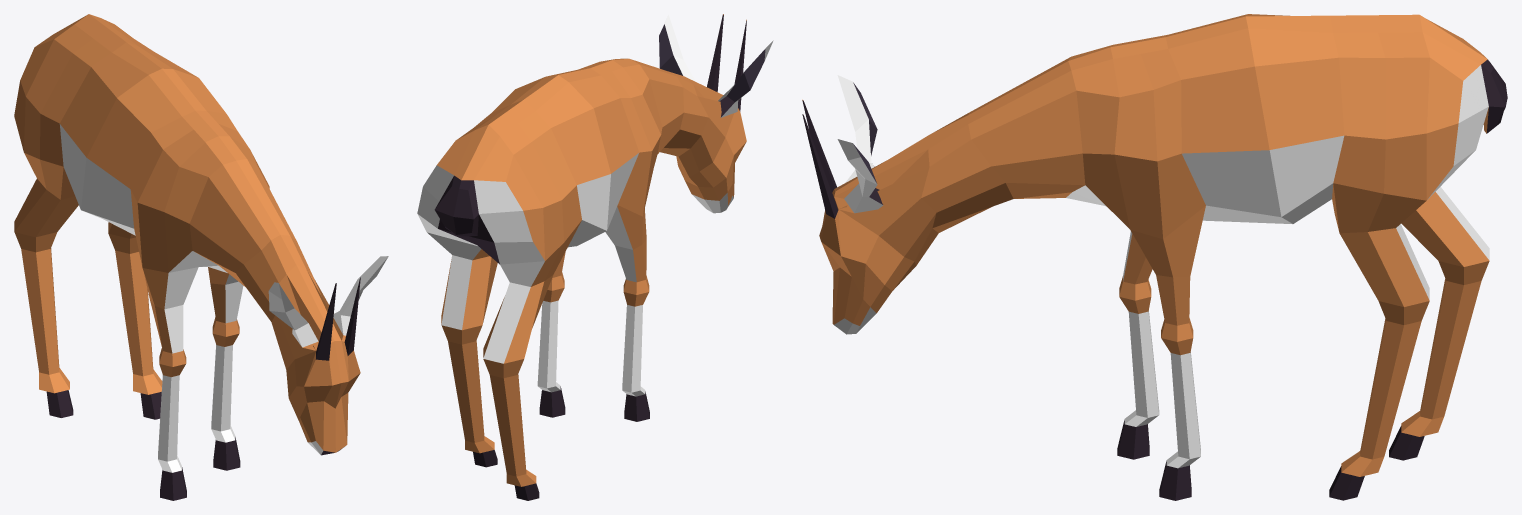
The model's file is Antilope2.fbx.
3 views of the same model, side by side, from view 1: azimuth 30°, elevation 25°; view 2: azimuth 150°, elevation 25°; view 3: azimuth 270°, elevation 25° (orthographic). The views are drawn at different scales.
Visible parts, largest first — view 1: Antilope.003; view 2: Antilope.003; view 3: Antilope.003.
Part boxes in pixels (left/top/right/bottom): Antilope.003: left=14, top=14, right=388, bottom=500; Antilope.003: left=417, top=14, right=773, bottom=500; Antilope.003: left=802, top=14, right=1507, bottom=500.
Bounding box in the file's own units: 0.444 × 1.24 × 1.73.
